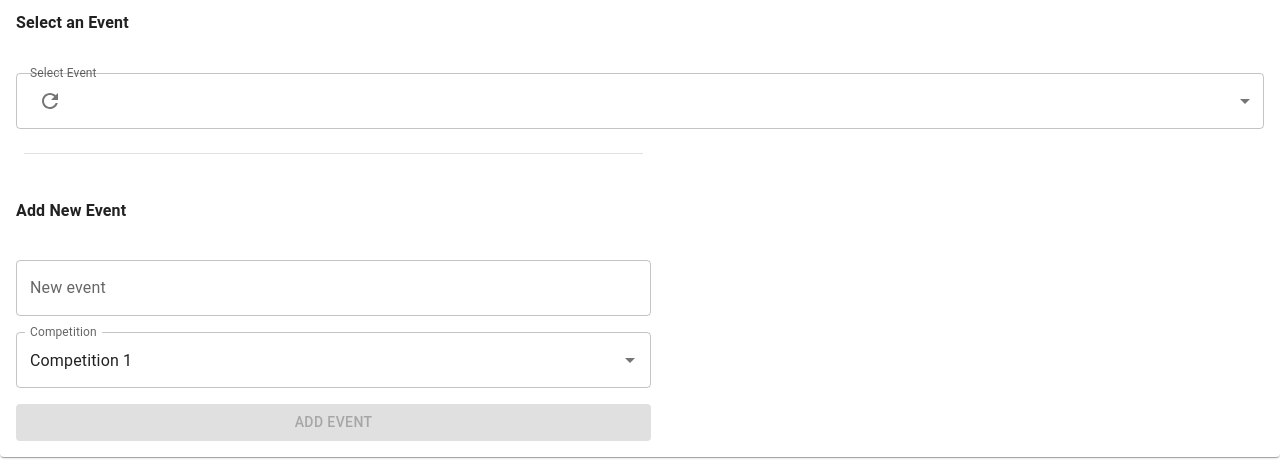
Test: EventSelector › adds a new event and shows it in the selector
Check: the heading "Add New Event" is shown, box 16,201 -> 126,220
Type "Freestyle Finals" into the field labelled "New event". click: (334, 288)
box: 16,260 -> 651,316
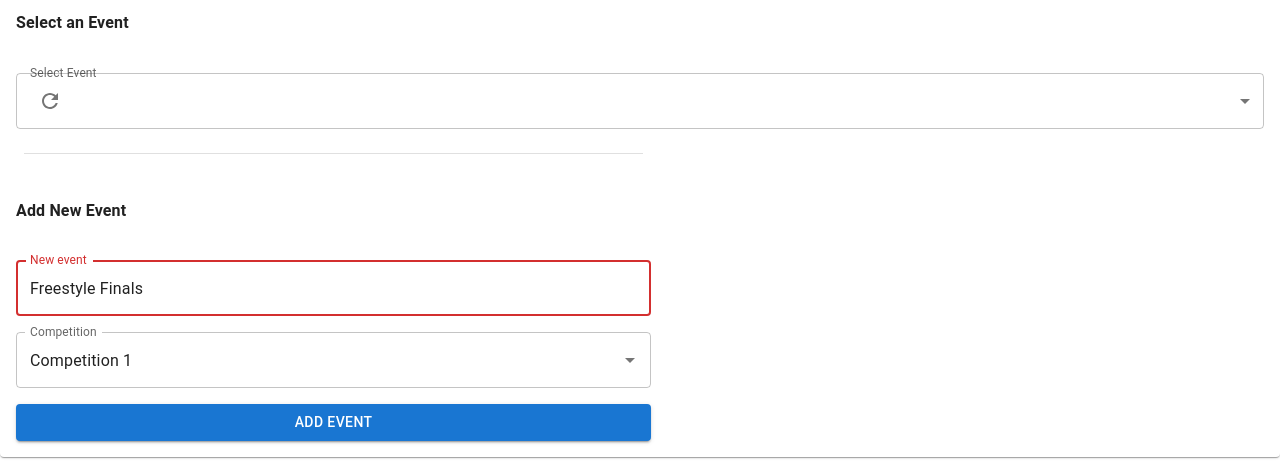
Check: the button "Add Event" is enabled
Click the button "Add Event". click: (334, 422)
box: 16,404 -> 651,441
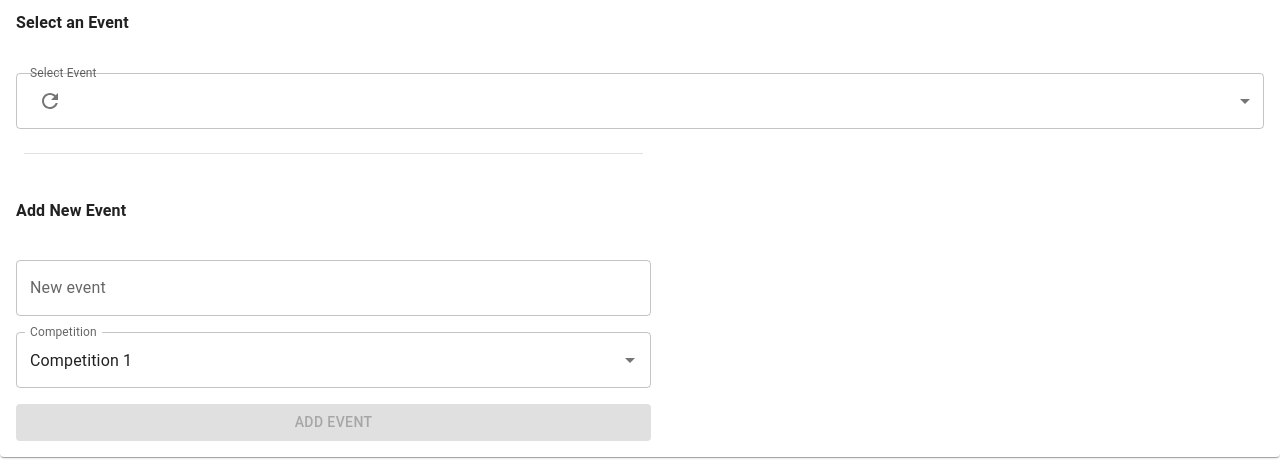
Click the 1st dropdown. click: (667, 100)
box: 70,72 -> 1264,128
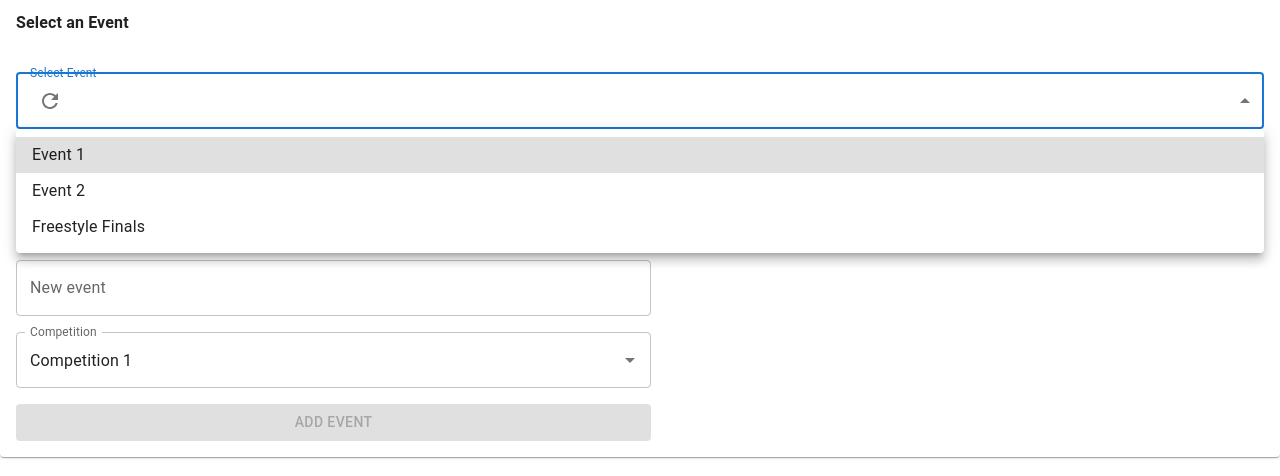
Check: the option "Freestyle Finals" is shown, box 32,217 -> 145,236
